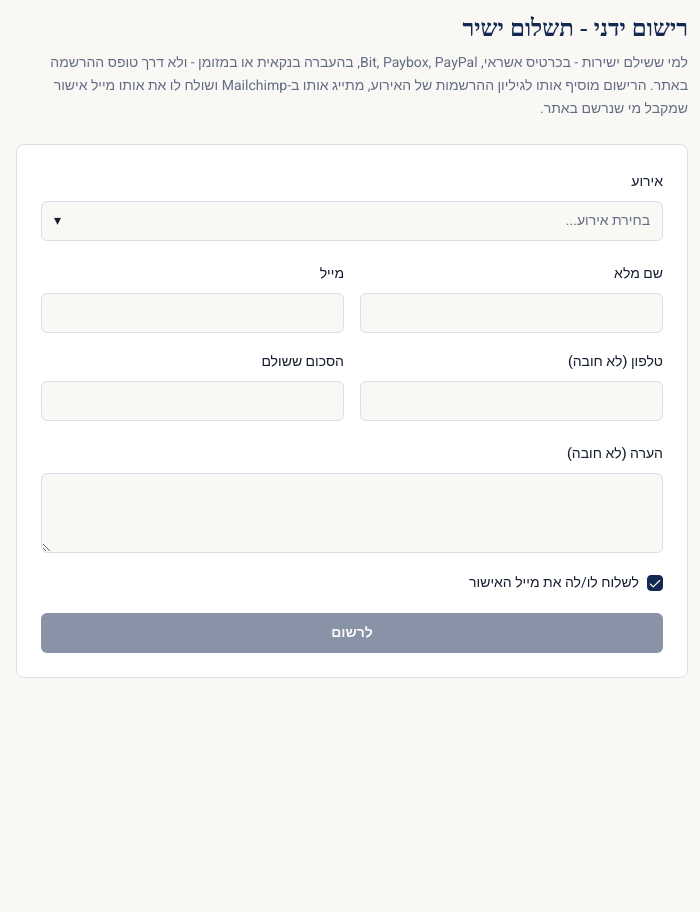
Test case: AdminManualRegistration › English event: PayPal is the default; the reference field hides for cash
Step 1. Click the button "בחירת אירוע... ▾" → (608, 221), box [41,201,663,241]
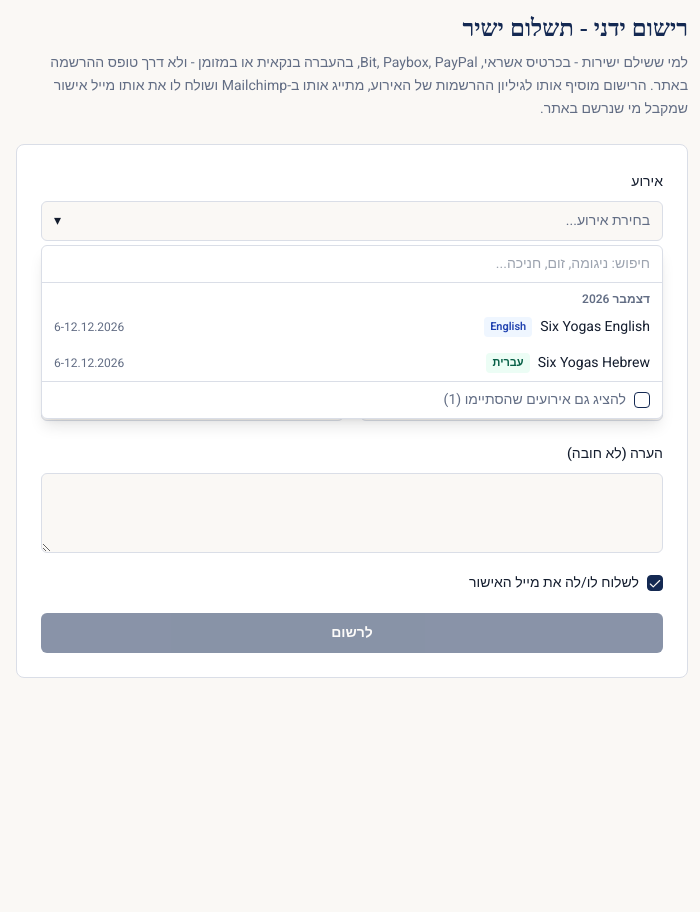
Step 2. Click the option "Six Yogas English English 6-12.12.2026" → (595, 327), box [42,309,662,345]
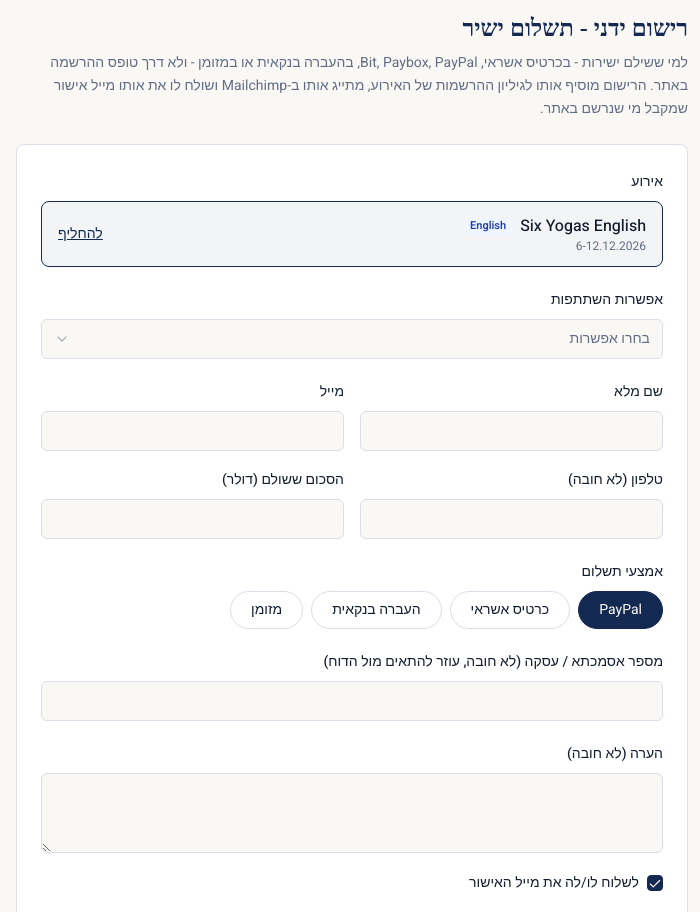
Check: the field labelled "מספר אסמכתא / עסקה (לא חובה, עוזר להתאים מול הדוח)" is shown, box [41,681,663,721]
Step 3. Click the button "מזומן" → (267, 610), box [230,591,303,629]
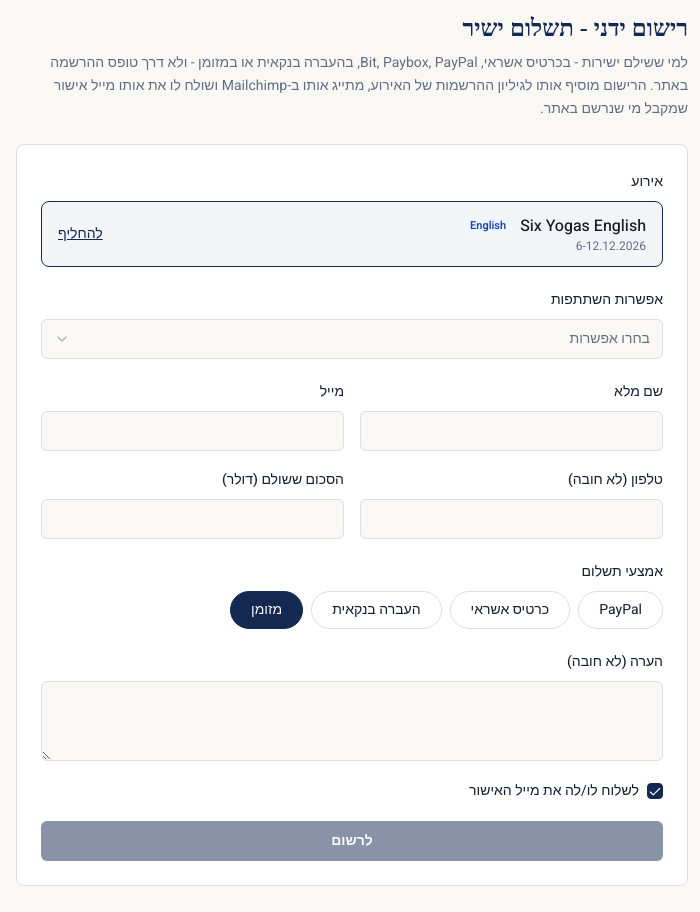
Check: the label labelled "מספר אסמכתא" is gone
